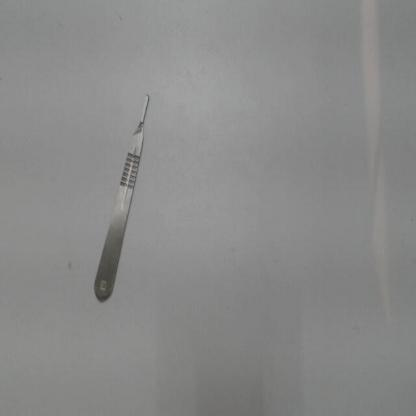No.3 BP Handle: (86, 83, 158, 318)
